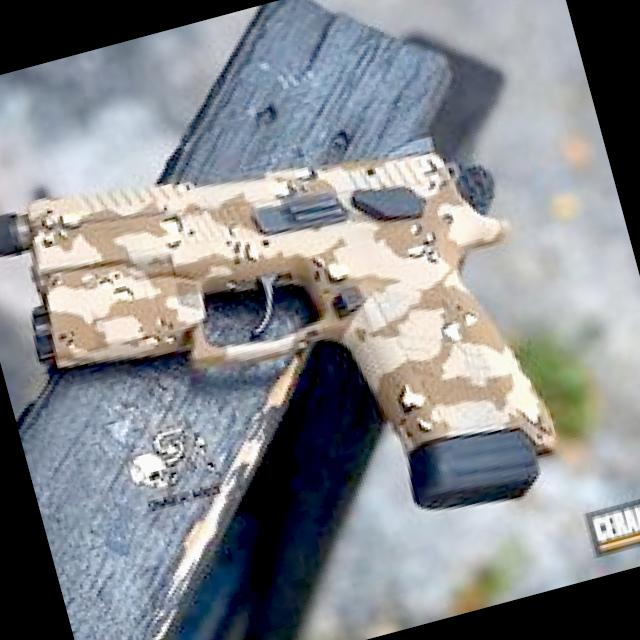semi automatic: (0, 65, 593, 640), (0, 67, 590, 636)
